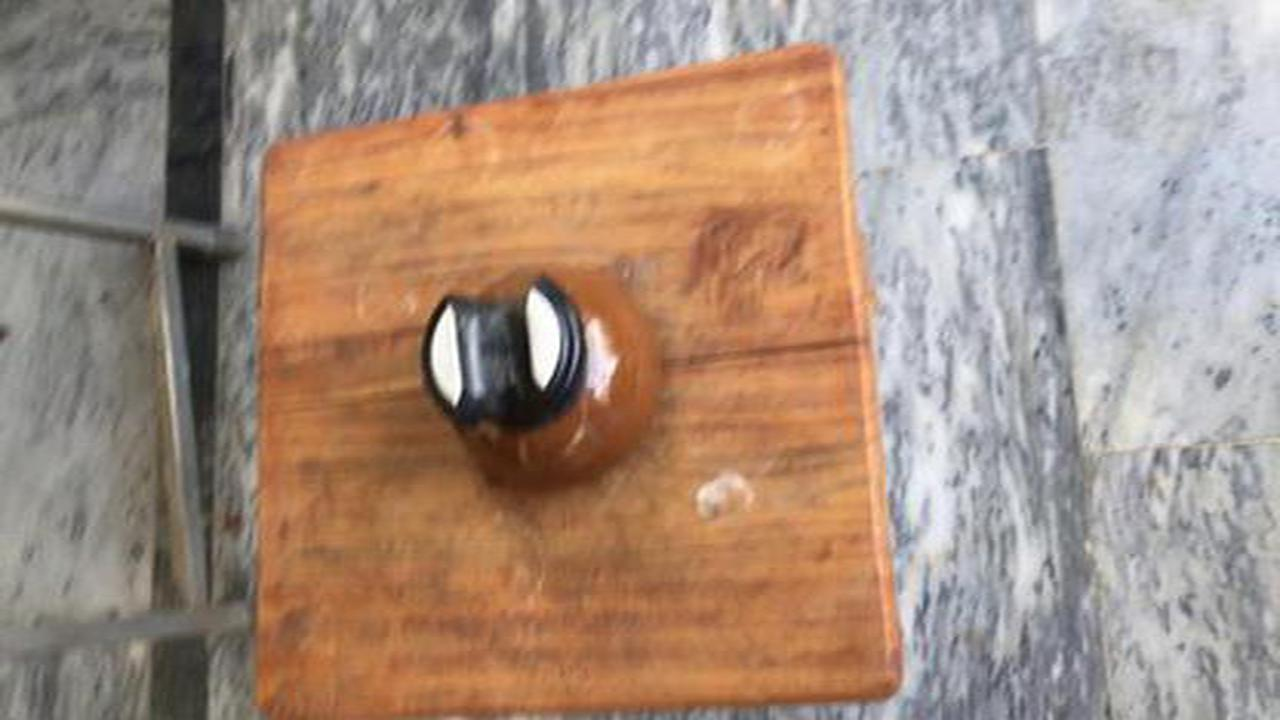insulator_pin: (394, 255, 681, 515)
